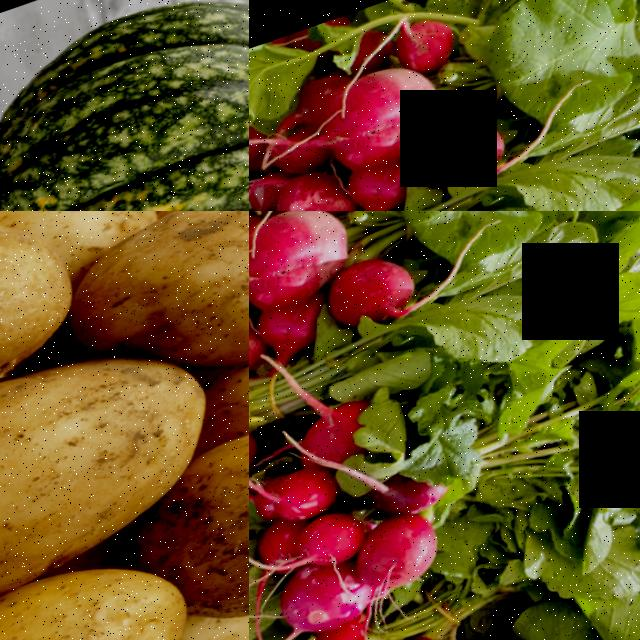potato: (0, 325, 249, 640), (81, 211, 249, 401), (144, 394, 249, 640), (0, 211, 100, 456), (0, 537, 233, 640)
pumpkin: (0, 0, 249, 211)
radishes: (249, 365, 500, 640), (276, 0, 540, 211), (249, 211, 450, 374), (249, 272, 355, 518), (249, 574, 546, 640), (249, 132, 445, 211)
